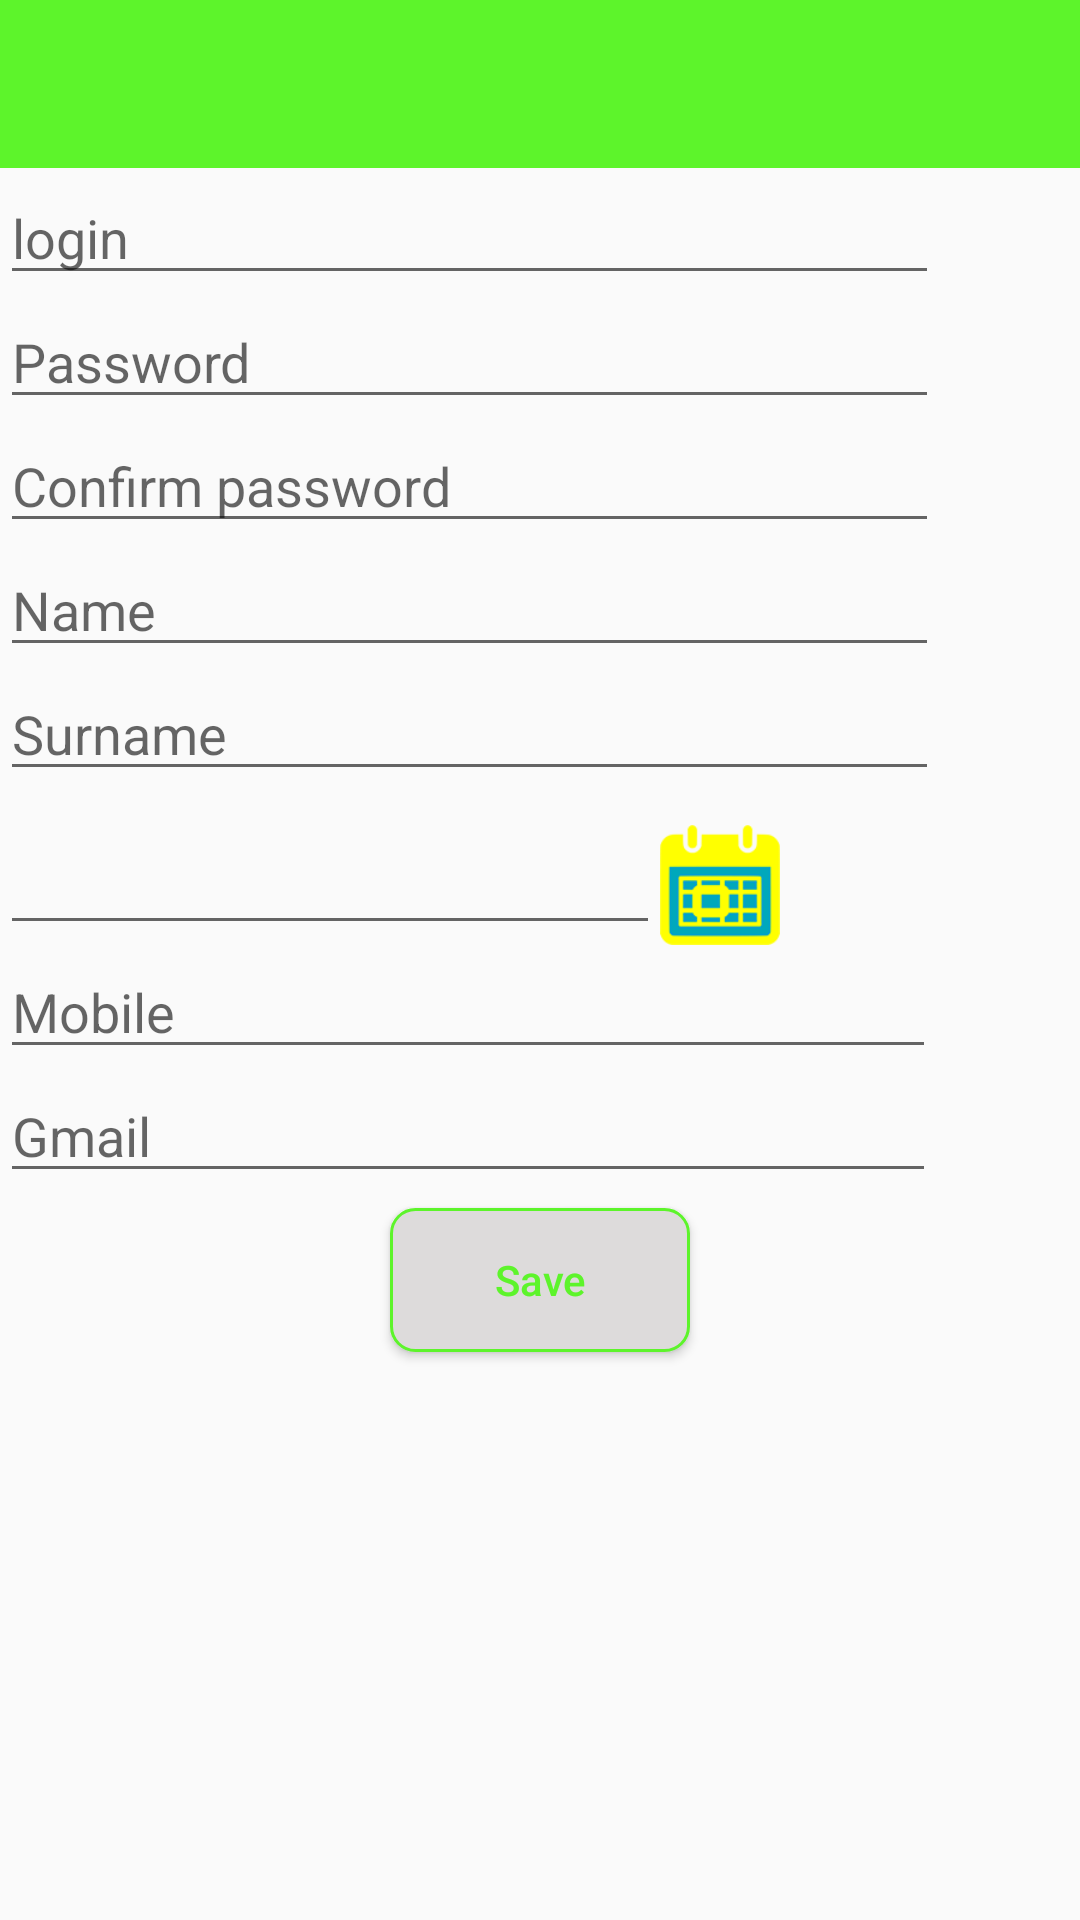

Named icons in this screenshot (1080px×1920px) and their bounding boxes, (x1, y1, x2, y2):
calend: (660, 825, 780, 945)
